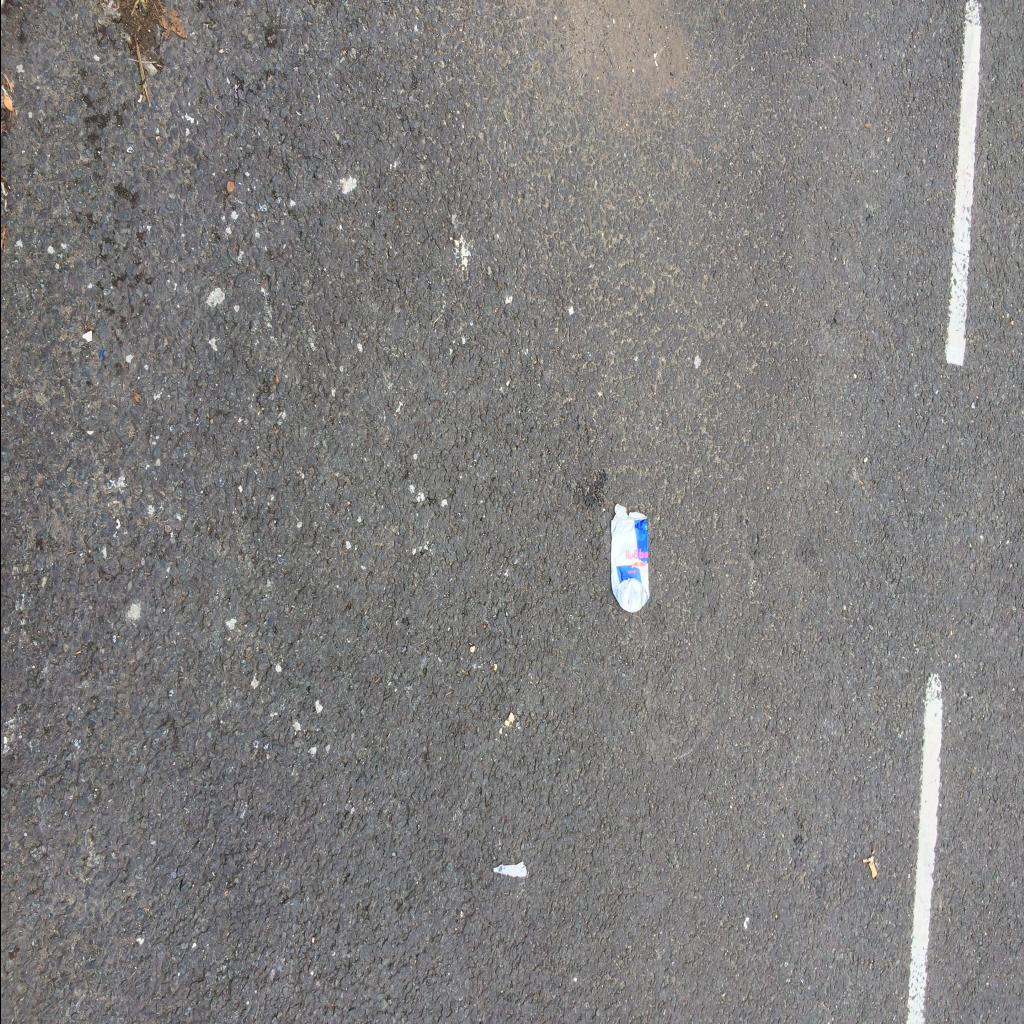Drink can: (610, 504, 649, 614)
Unlabeled litter: (492, 860, 526, 876)
